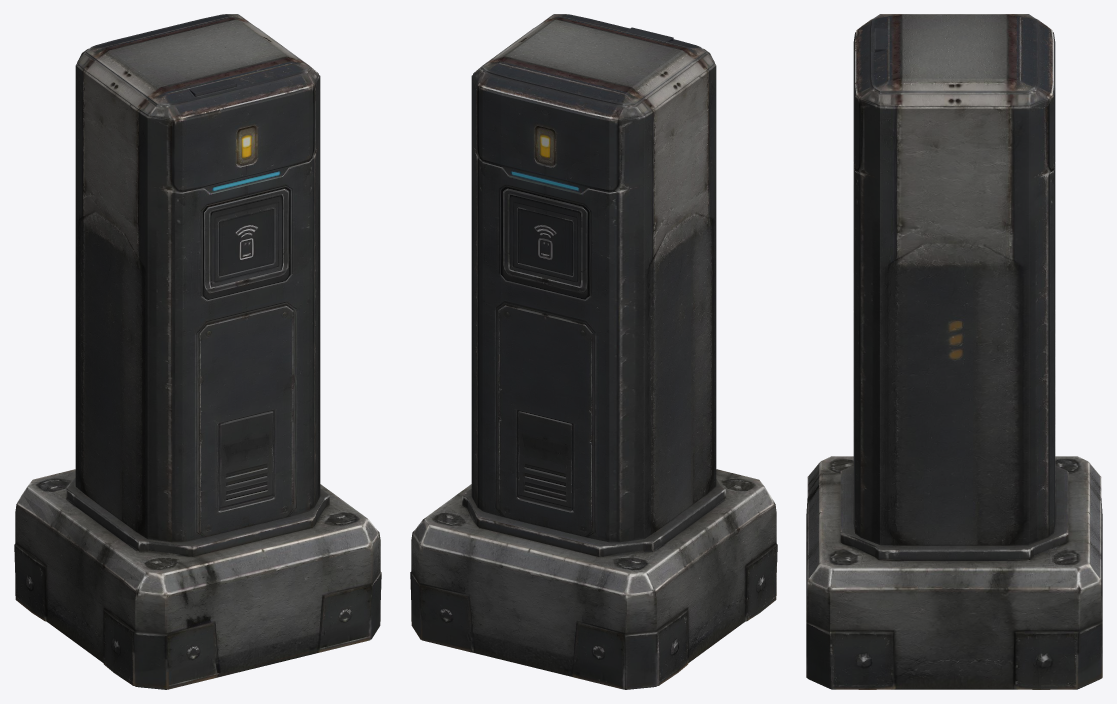
File: prop_beacon.glb
3 views of the same model, side by side, from view 1: azimuth 30°, elevation 25°; view 2: azimuth 150°, elevation 25°; view 3: azimuth 270°, elevation 25° (orthographic). The views are drawn at different scales.
Visible parts, largest first — view 1: Mesh_0; view 2: Mesh_0; view 3: Mesh_0.
Boxes of the visible parts, x1,y1,x2,y2 form: Mesh_0: (14,14,381,689); Mesh_0: (410,14,777,689); Mesh_0: (806,14,1102,689).
Bounding box in the file's own units: 0.8885 × 1.91 × 0.8806.
Materials: 1 (1 with a texture image).
